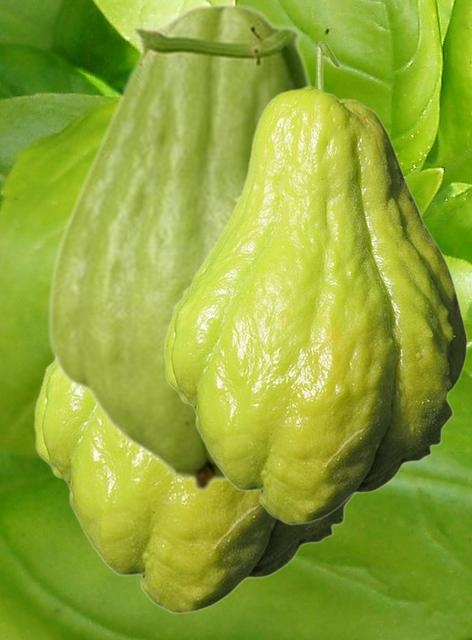sayote: (163, 40, 467, 524), (46, 2, 314, 492), (33, 360, 356, 613)
